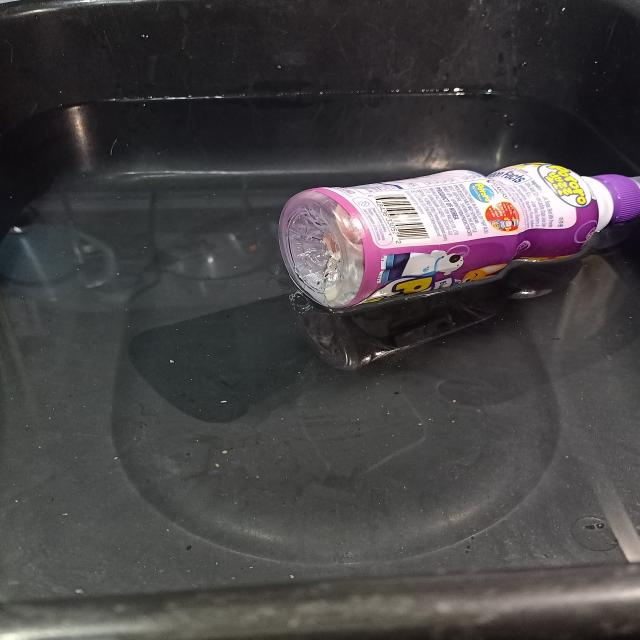Plastic Bottle: (279, 163, 640, 308)
